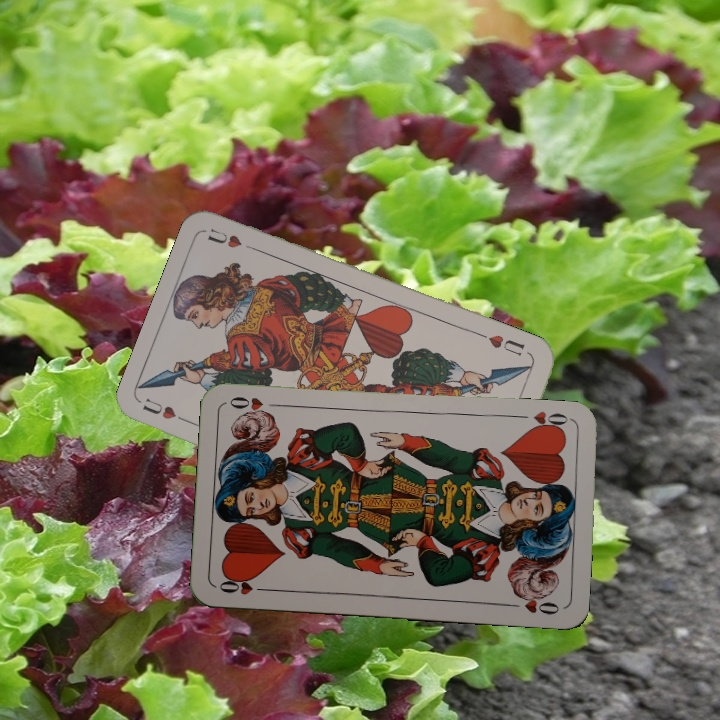HO: (215, 573, 273, 598), (524, 407, 574, 435)
HU: (139, 394, 195, 427), (484, 330, 527, 359)
